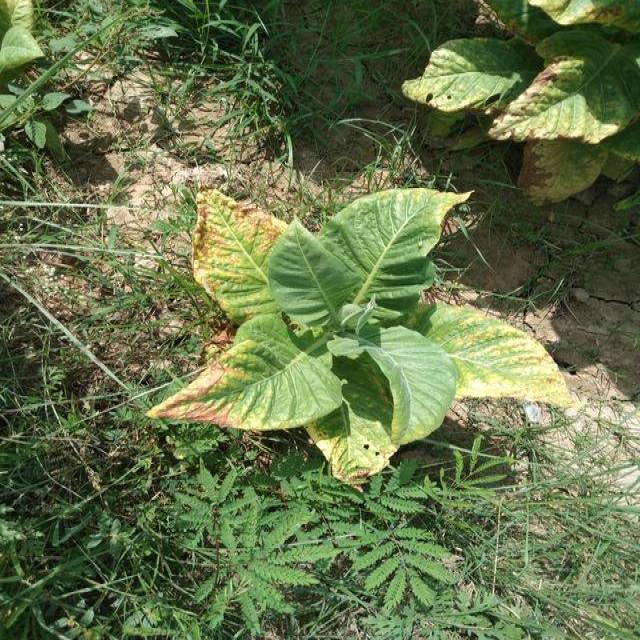crop: (182, 176, 562, 448), (415, 0, 640, 136)
